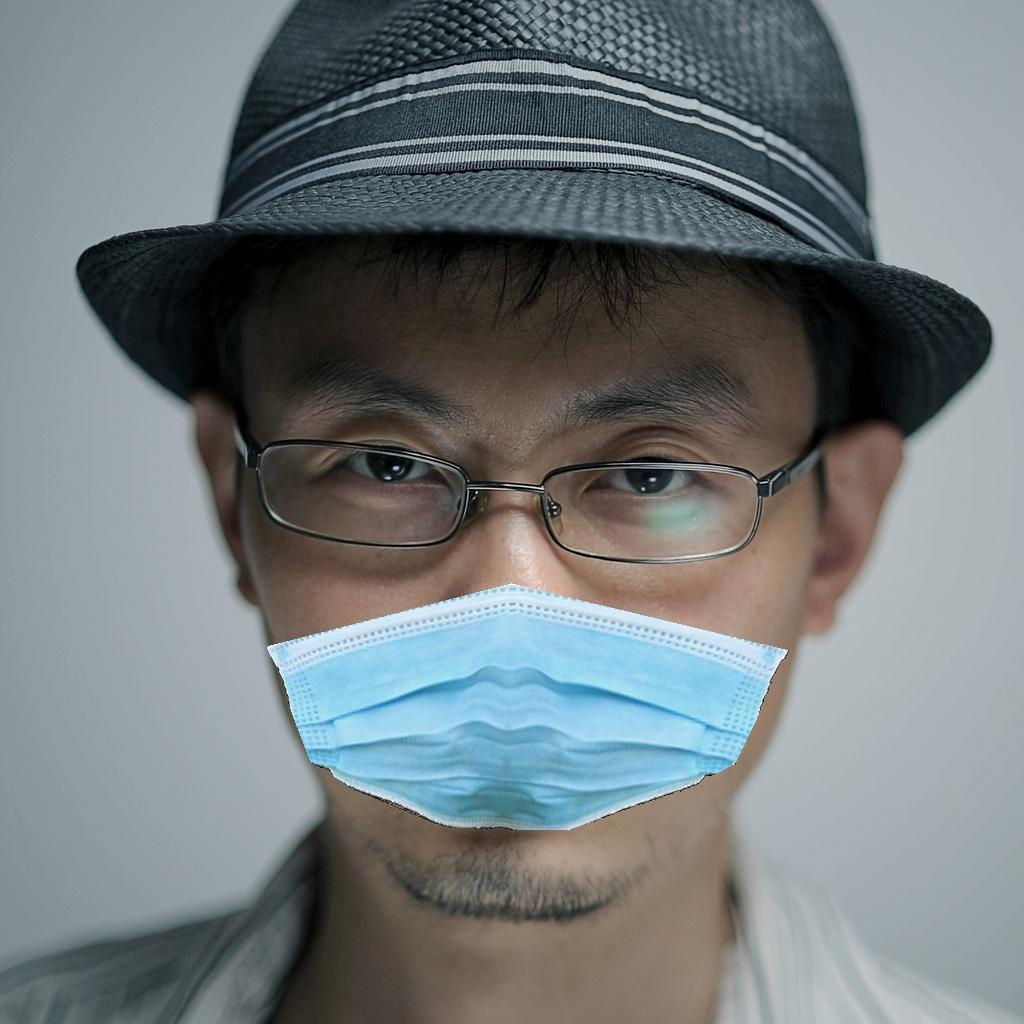Máscara Incorreta: (219, 258, 814, 896)
